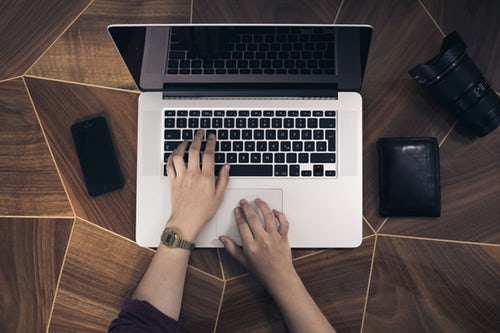phone: (66, 115, 126, 200)
